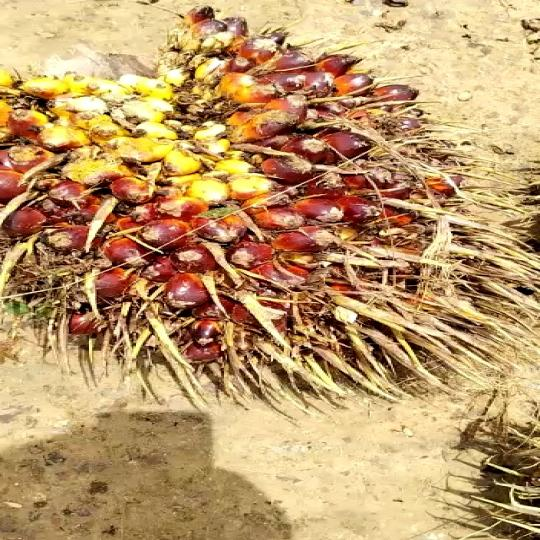masak: (0, 11, 540, 400)
